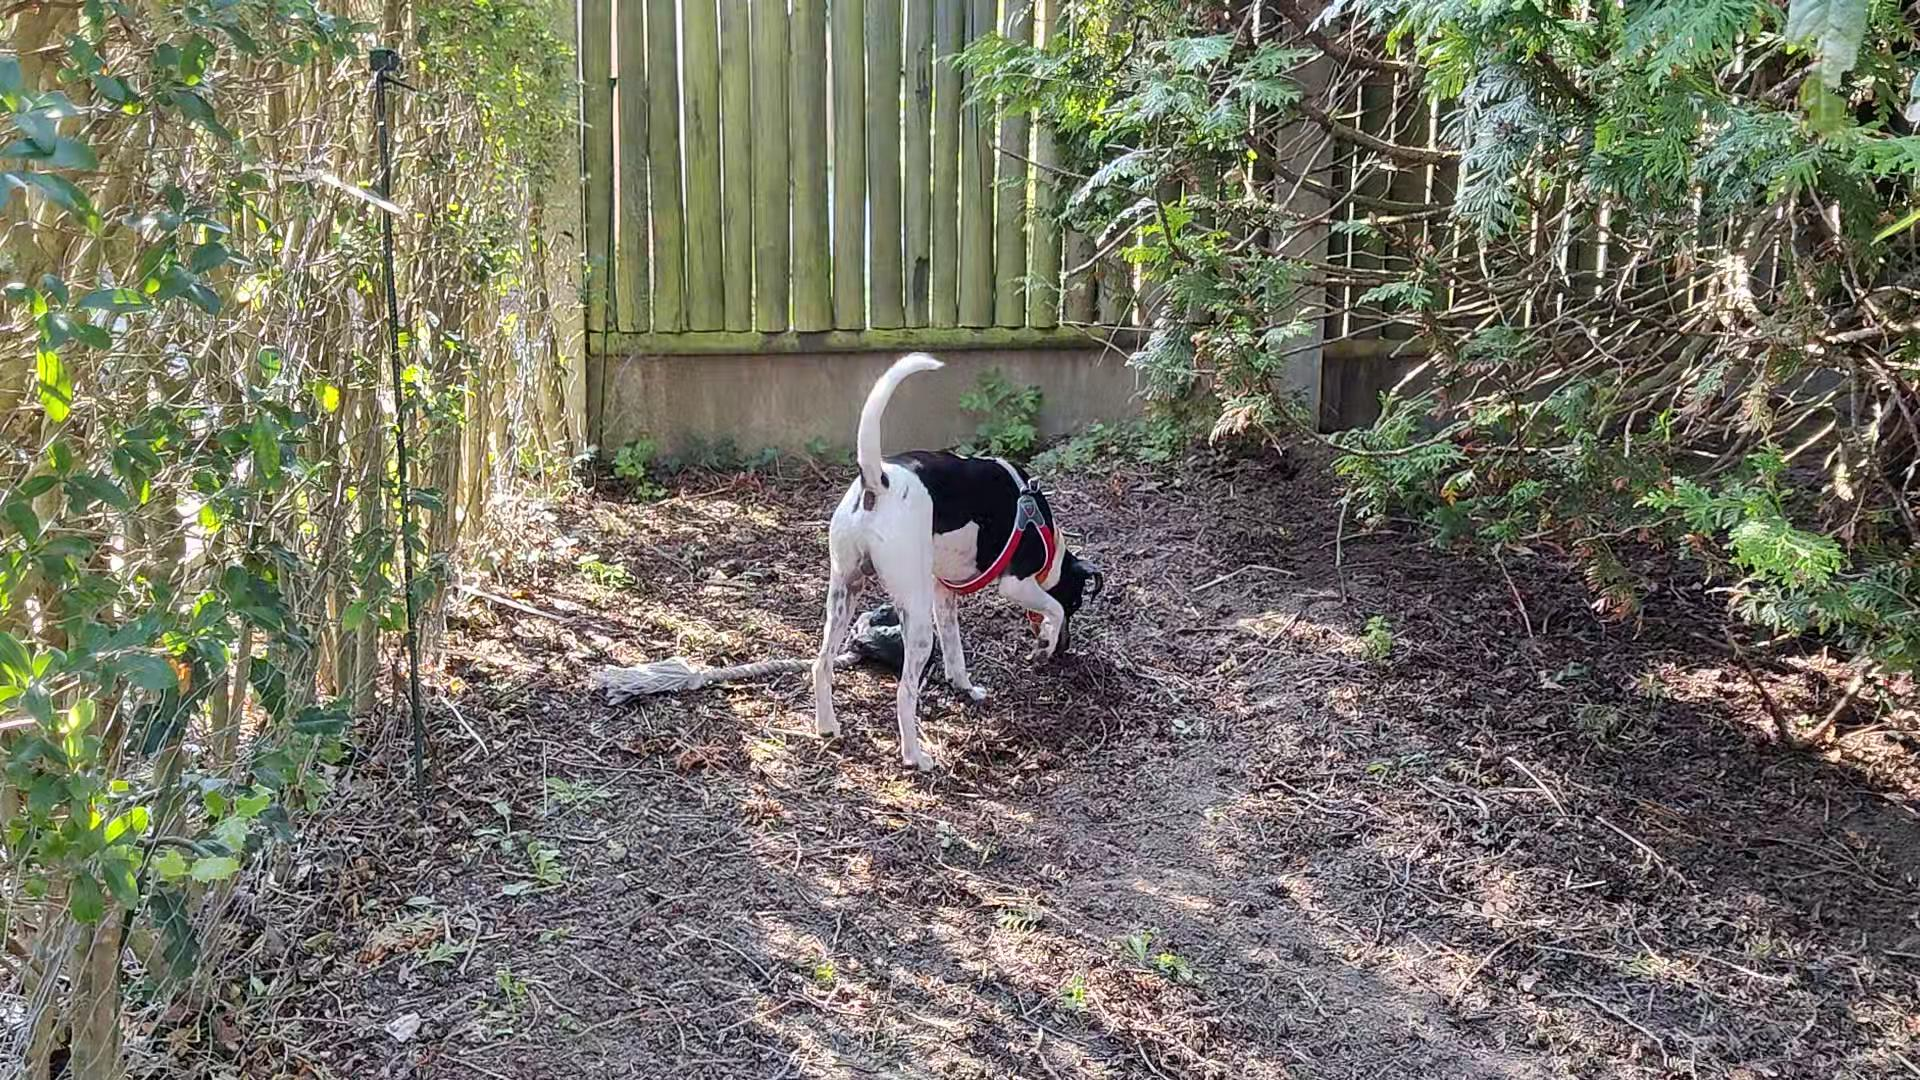Dog: (783, 342, 1106, 771)
